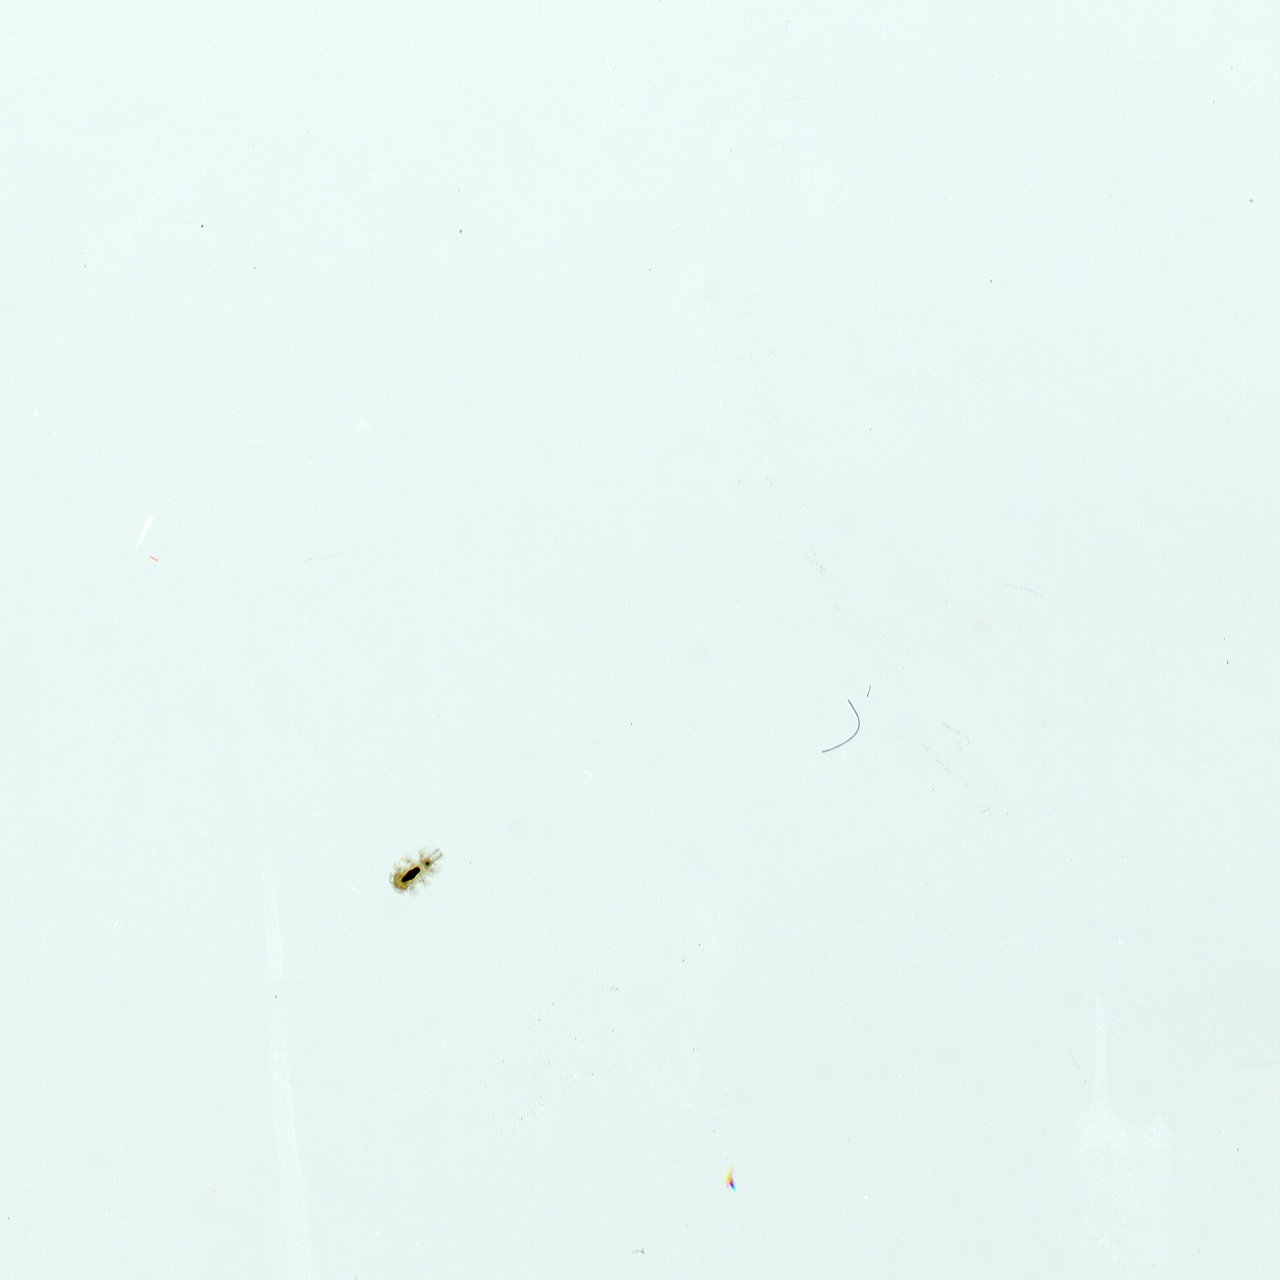arthropod: (386, 843, 445, 898)
